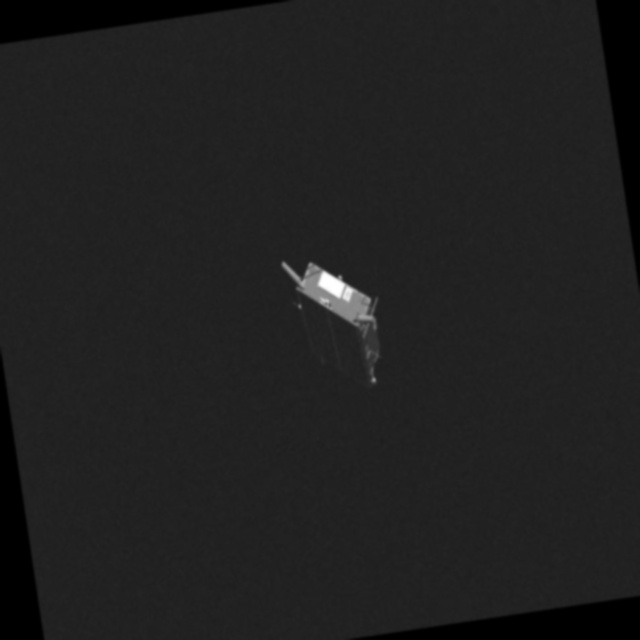medium_debris: (259, 249, 398, 411)
